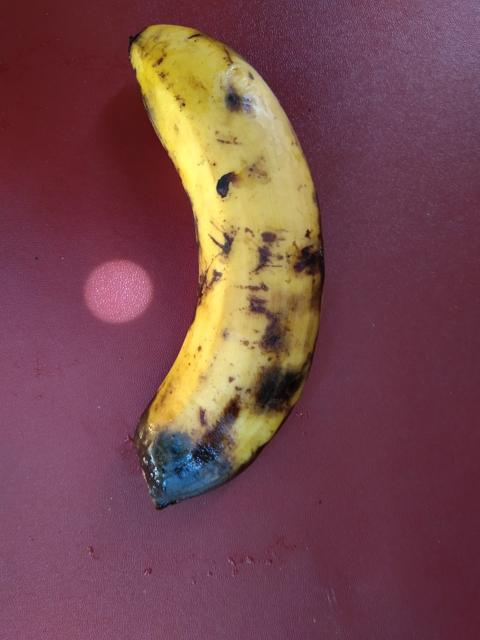overripe: (108, 19, 365, 398)
rotten: (90, 308, 342, 531)
